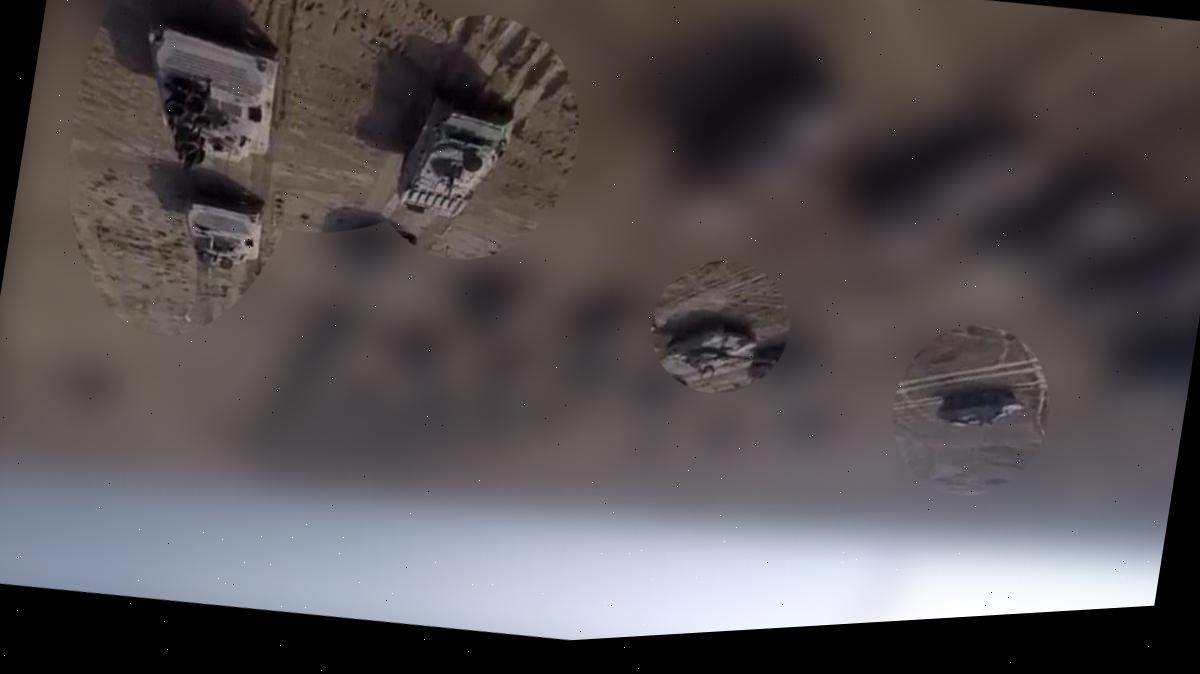armored_car: (116, 1, 296, 175), (386, 83, 522, 231), (172, 176, 270, 279), (931, 376, 1026, 435)
tank: (652, 302, 780, 394)
